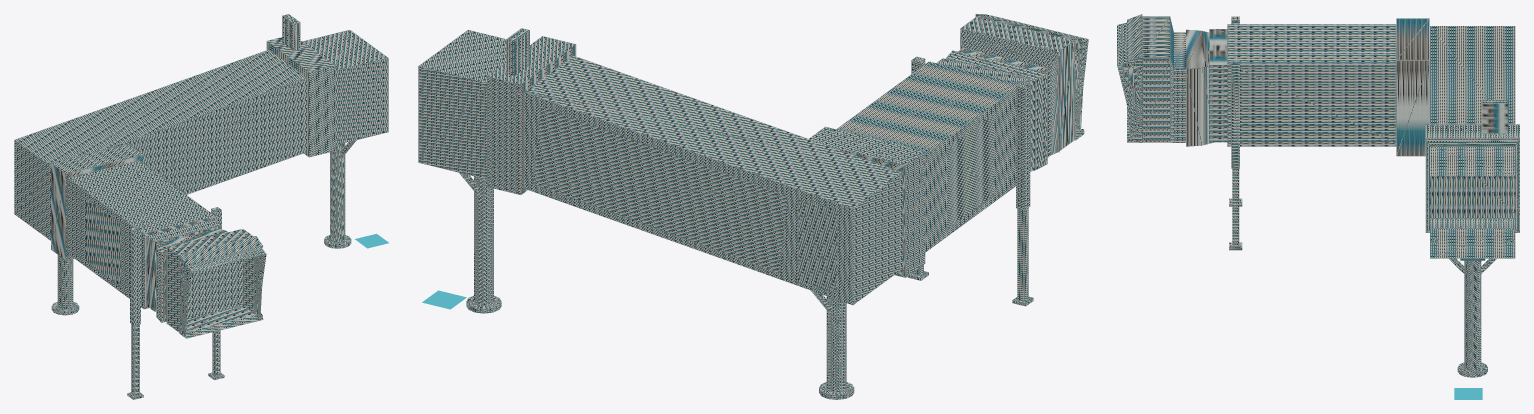
The model's file is jetways_SKCL2.gltf.
3 views of the same model, side by side, from view 1: azimuth 30°, elevation 25°; view 2: azimuth 150°, elevation 25°; view 3: azimuth 270°, elevation 25° (orthographic). The views are drawn at different scales.
Visible parts, largest first — view 1: node1; view 2: node1; view 3: node1.
Part boxes in pixels (bbox=[...]): node1: bbox=[14, 14, 388, 399]; node1: bbox=[418, 14, 1088, 399]; node1: bbox=[1117, 14, 1519, 377].
Bounding box in the file's own units: 16.11 × 9.9 × 14.17.
